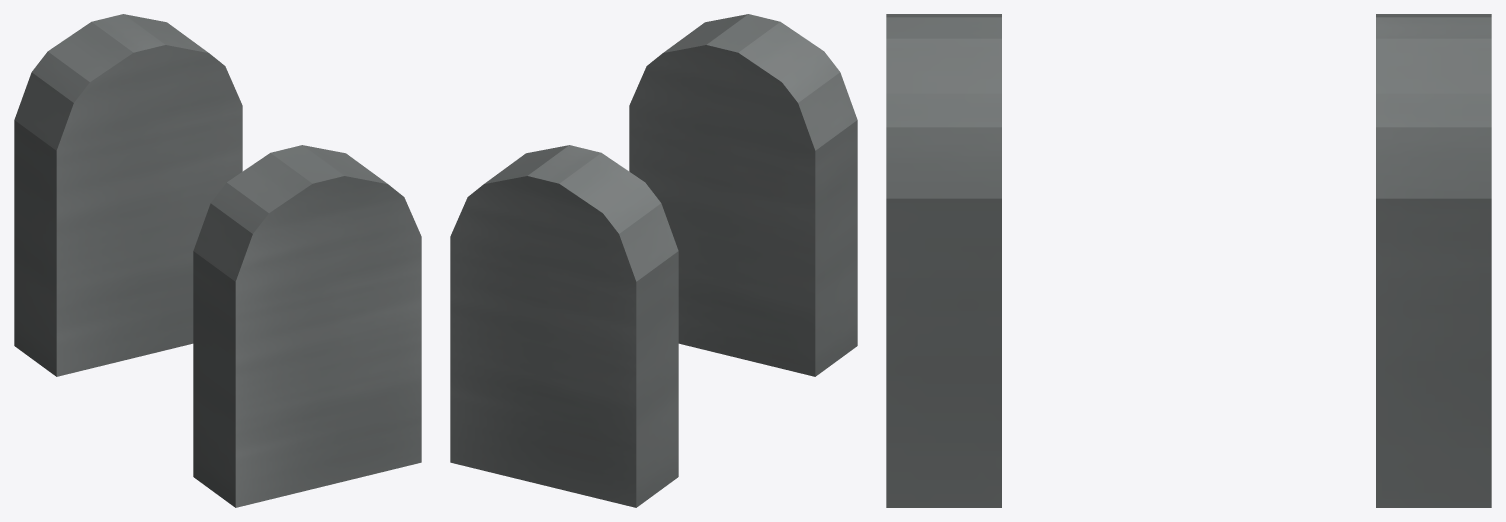
The model's file is Laser 1.fbx.
3 renders of one model, left to right at view 1: azimuth 30°, elevation 25°; view 2: azimuth 150°, elevation 25°; view 3: azimuth 270°, elevation 25°, orthographic. The views are drawn at different scales.
Parts seen in each view (by area): view 1: Laser; view 2: Laser; view 3: Laser.
Boxes of the visible parts, box(x1,y1,x2,y2) form: Laser: box(14, 14, 421, 507); Laser: box(450, 14, 857, 507); Laser: box(886, 14, 1491, 507).
Bounding box in the file's own units: 69.44 × 109 × 143.
